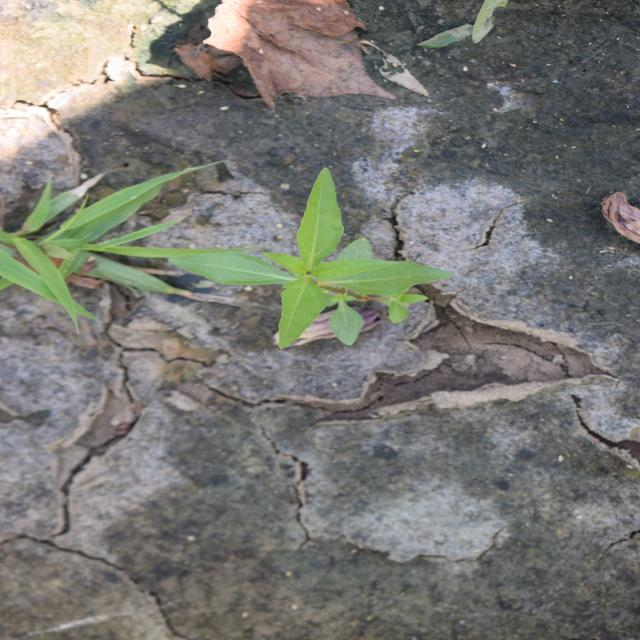Eclipta: (162, 166, 456, 352)
